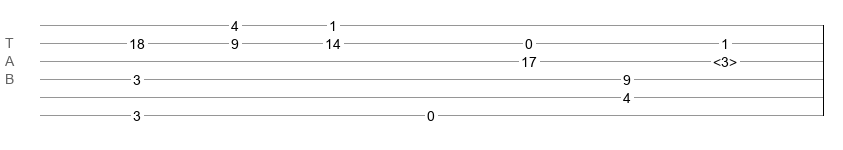0: (427, 108, 435, 118), (525, 36, 533, 46)
1: (329, 18, 337, 28), (721, 36, 729, 46)
14: (325, 36, 341, 46)
17: (521, 54, 537, 64)
18: (129, 36, 145, 46)
3: (133, 108, 141, 118), (133, 72, 141, 82)
4: (231, 18, 239, 28), (623, 90, 631, 100)
9: (231, 36, 239, 46), (623, 72, 631, 82)
harmonic: (713, 54, 737, 64)
